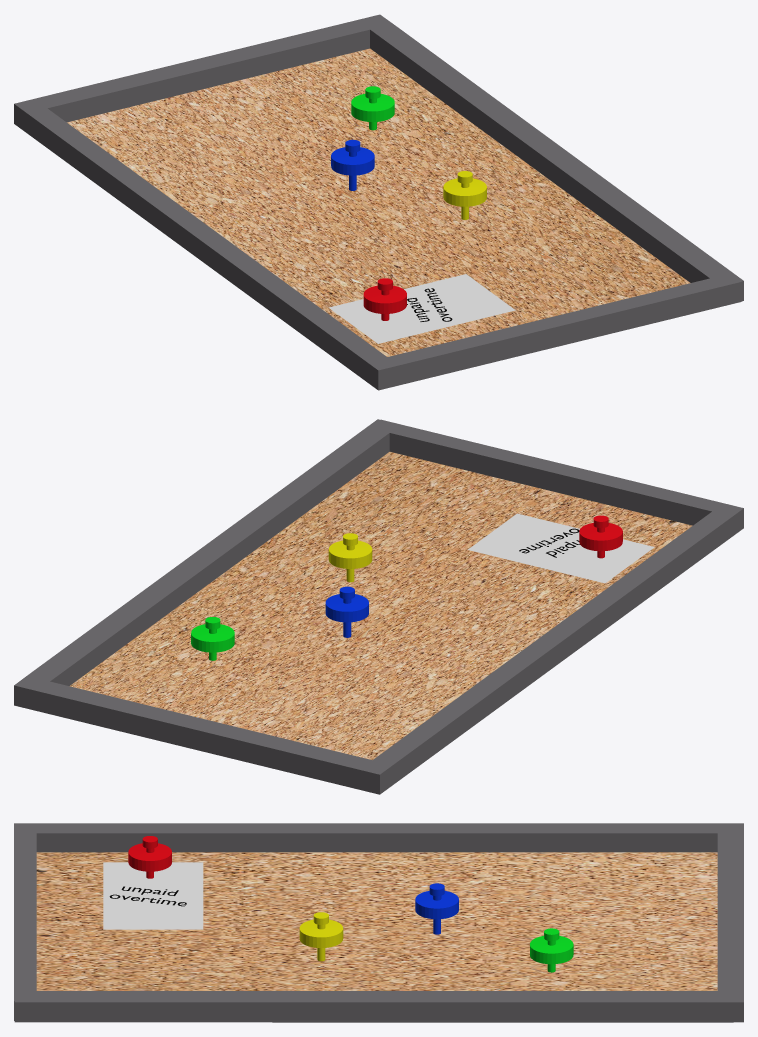
The model's file is noticeboard.gltf.
3 renders of one model, top to bottom at view 1: azimuth 30°, elevation 25°; view 2: azimuth 150°, elevation 25°; view 3: azimuth 270°, elevation 25°, orthographic.
Visible parts, largest first — view 1: Plane, Cube, Plane.001, Cylinder.003, Cylinder.001, Cylinder.002, Cylinder; view 2: Plane, Cube, Plane.001, Cylinder.003, Cylinder.001, Cylinder.002, Cylinder; view 3: Plane, Cube, Plane.001, Cylinder.001, Cylinder.003, Cylinder.002, Cylinder, Text.
Boxes of the visible parts, left/top/right/bottom form: Plane: left=67, top=48, right=690, bottom=356; Cube: left=14, top=14, right=743, bottom=390; Plane.001: left=328, top=274, right=515, bottom=343; Cylinder.003: left=331, top=139, right=374, bottom=190; Cylinder.001: left=443, top=171, right=486, bottom=219; Cylinder.002: left=351, top=86, right=394, bottom=130; Cylinder: left=363, top=278, right=406, bottom=320; Plane: left=69, top=452, right=692, bottom=759; Cube: left=14, top=419, right=743, bottom=794; Plane.001: left=468, top=513, right=654, bottom=583; Cylinder.003: left=325, top=586, right=368, bottom=637; Cylinder.001: left=328, top=533, right=372, bottom=582; Cylinder.002: left=191, top=617, right=234, bottom=660; Cylinder: left=579, top=515, right=622, bottom=558; Plane: left=36, top=852, right=717, bottom=990; Cube: left=14, top=823, right=743, bottom=1022; Plane.001: left=103, top=862, right=203, bottom=929; Cylinder.001: left=299, top=912, right=343, bottom=961; Cylinder.003: left=415, top=883, right=458, bottom=934; Cylinder.002: left=530, top=928, right=573, bottom=972; Cylinder: left=128, top=836, right=171, bottom=878; Text: left=109, top=886, right=186, bottom=906.
Bounding box in the file's own units: 2.04 × 0.3394 × 3.51.
8 materials, 1 textured.
